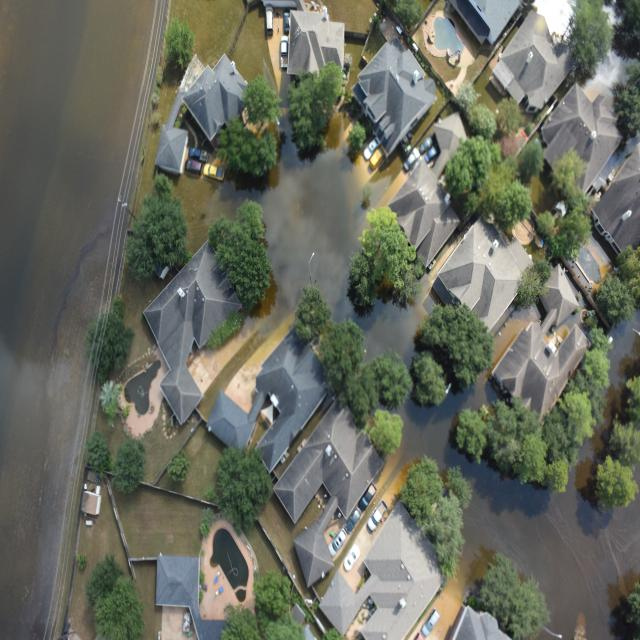fire: (0, 0, 167, 639), (198, 132, 445, 415), (390, 373, 640, 636), (249, 112, 366, 311), (592, 311, 640, 462), (340, 300, 427, 366)
